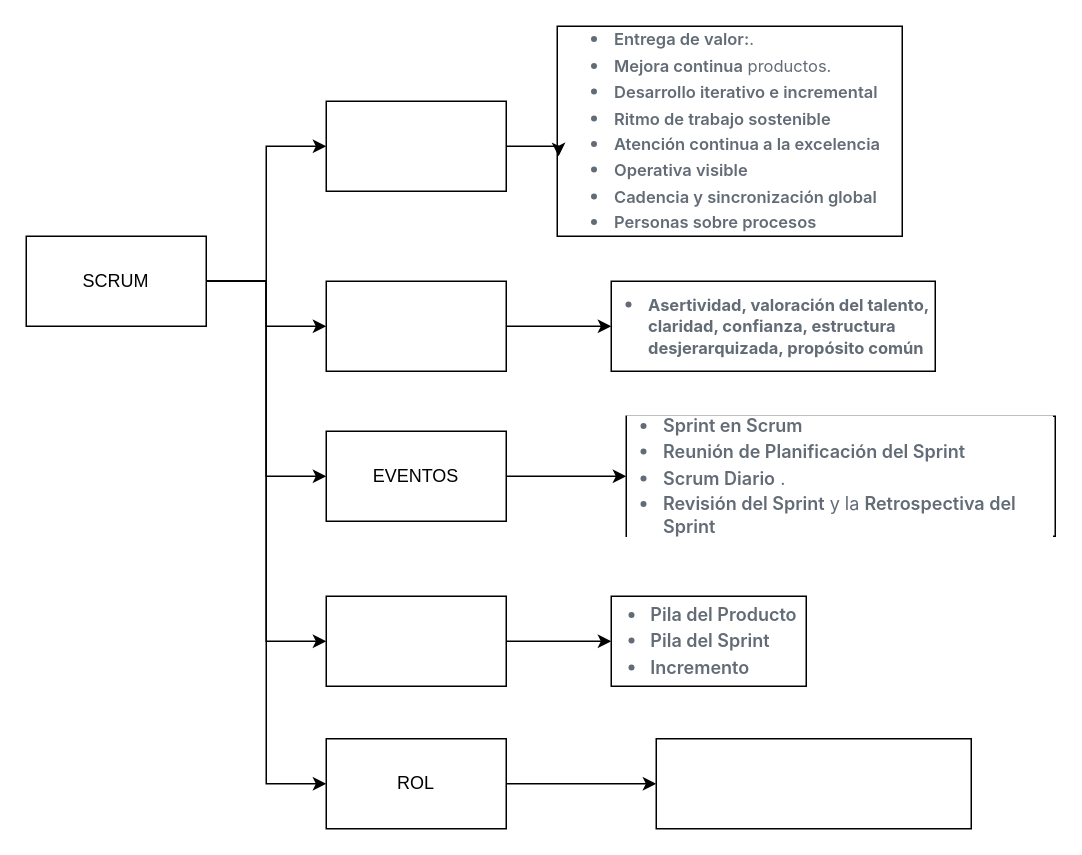
Image size: 1082x855. Some labels were removed from this diagram. Here are the shapes that lost their labels. From the top down, the centre of each, then its label:
At (x=415, y=145): "PRINCIPIOS".
At (x=415, y=325): "VALORES".
At (x=415, y=640): "ARTEFACTOS".
At (x=813, y=783): "El propietario del producto Desarrolladores El Scrum Master".
